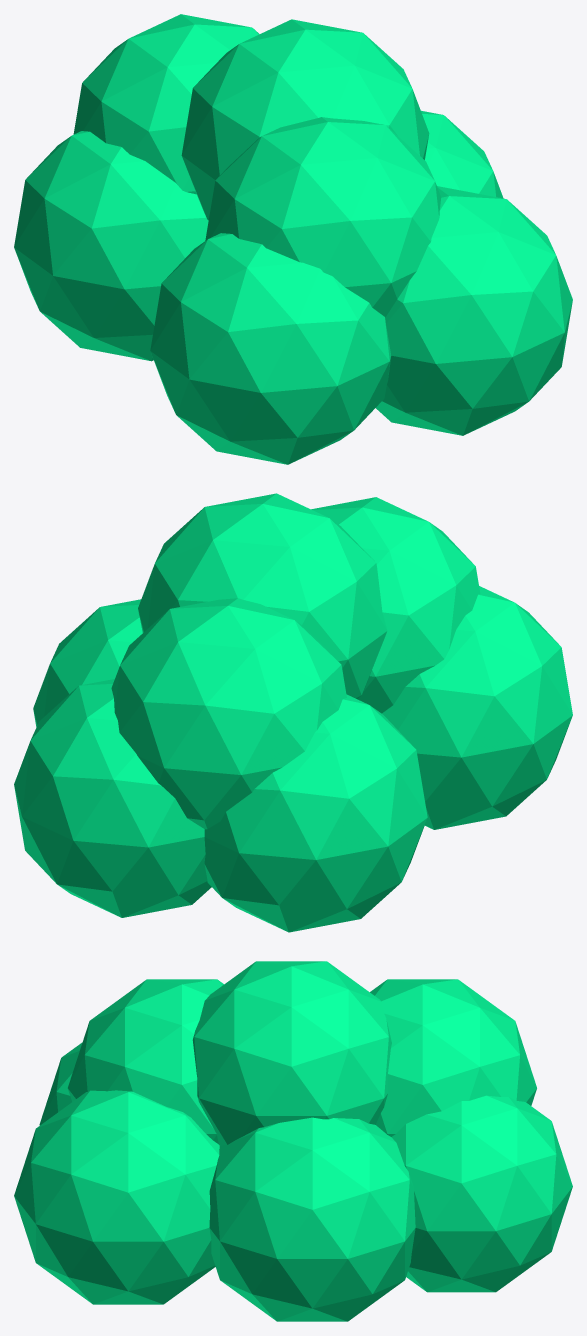
The model's file is kust.fbx.
The picture shows the model from 3 angles, top to bottom: view 1: azimuth 30°, elevation 25°; view 2: azimuth 150°, elevation 25°; view 3: azimuth 270°, elevation 25°; orthographic projection. The views are drawn at different scales.
Visible parts, largest first — view 1: Icosphere.004, Icosphere.001, Icosphere.008, Icosphere.005, Icosphere.006, Icosphere.007, Icosphere.003; view 2: Icosphere.007, Icosphere.005, Icosphere.002, Icosphere.004, Icosphere.006, Icosphere.008, Icosphere.003; view 3: Icosphere.003, Icosphere.001, Icosphere.006, Icosphere.002, Icosphere.007, Icosphere.008, Icosphere.004.
Part boxes in pixels (<box>): Icosphere.004: <box>150,233,391,464</box>; Icosphere.001: <box>376,186,572,435</box>; Icosphere.008: <box>205,117,441,317</box>; Icosphere.005: <box>14,131,208,361</box>; Icosphere.006: <box>181,19,429,220</box>; Icosphere.007: <box>73,14,259,194</box>; Icosphere.003: <box>421,110,503,198</box>; Icosphere.007: <box>111,598,346,829</box>; Icosphere.005: <box>204,694,427,932</box>; Icosphere.002: <box>14,679,211,917</box>; Icosphere.004: <box>382,586,572,829</box>; Icosphere.006: <box>138,493,387,698</box>; Icosphere.008: <box>311,497,480,713</box>; Icosphere.003: <box>33,599,142,727</box>; Icosphere.003: <box>209,1117,415,1321</box>; Icosphere.001: <box>14,1090,219,1304</box>; Icosphere.006: <box>192,961,391,1145</box>; Icosphere.002: <box>391,1095,572,1292</box>; Icosphere.007: <box>370,979,536,1136</box>; Icosphere.008: <box>67,979,223,1144</box>; Icosphere.004: <box>39,1042,82,1125</box>.
Bounding box in the file's own units: 172 × 138 × 226.
